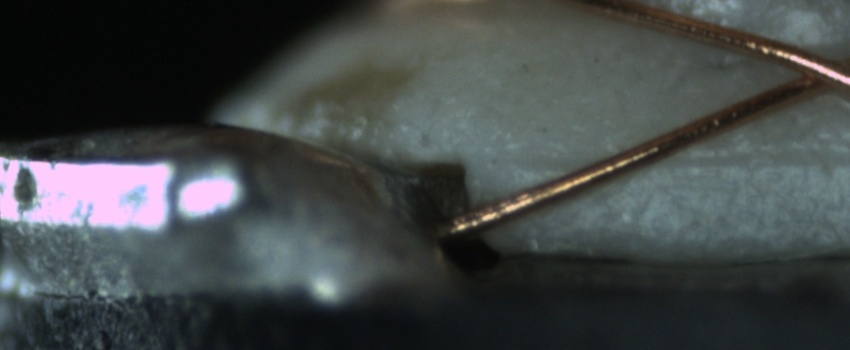CL: (768, 40, 848, 104)
DL: (507, 128, 850, 193)
